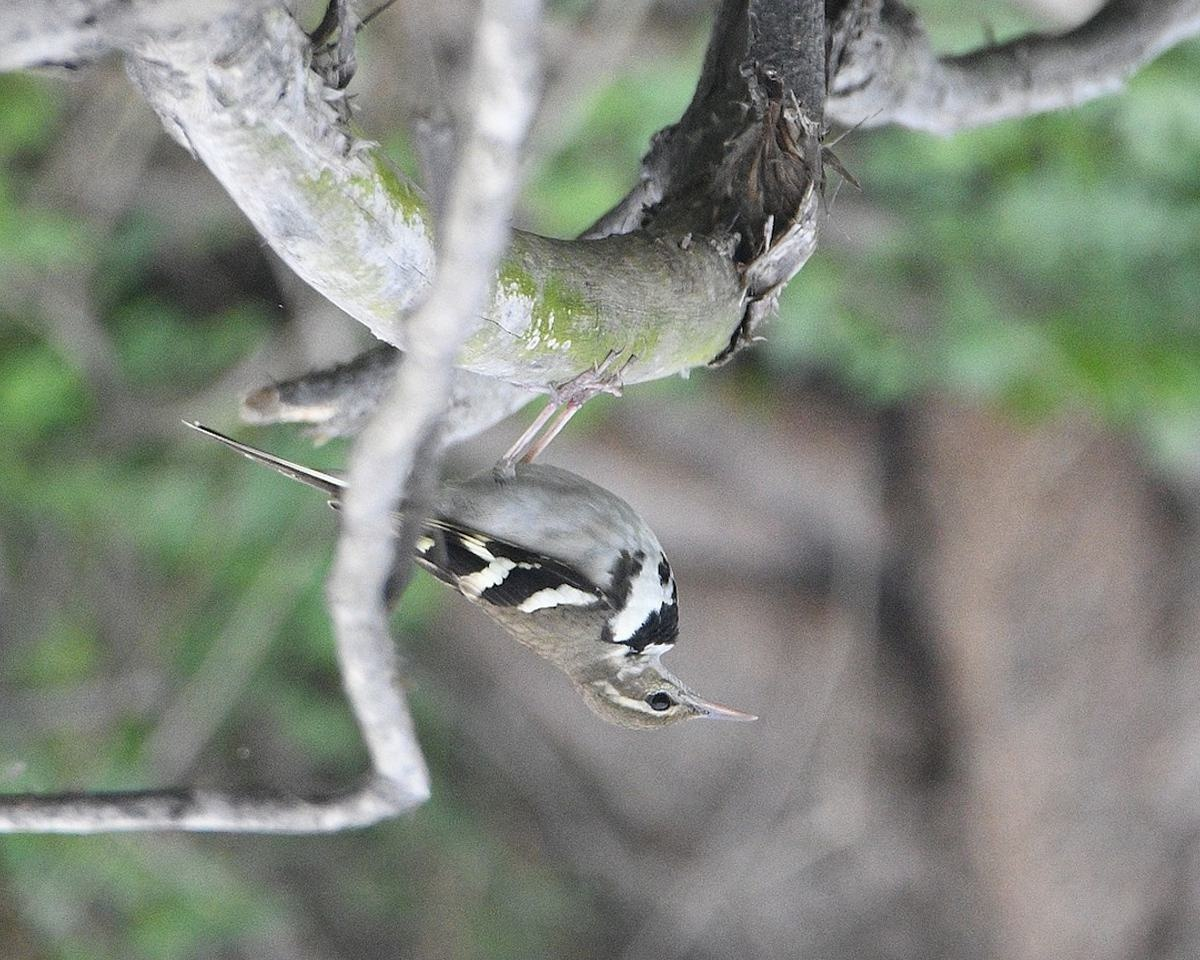wagtail: (338, 412, 806, 744)
